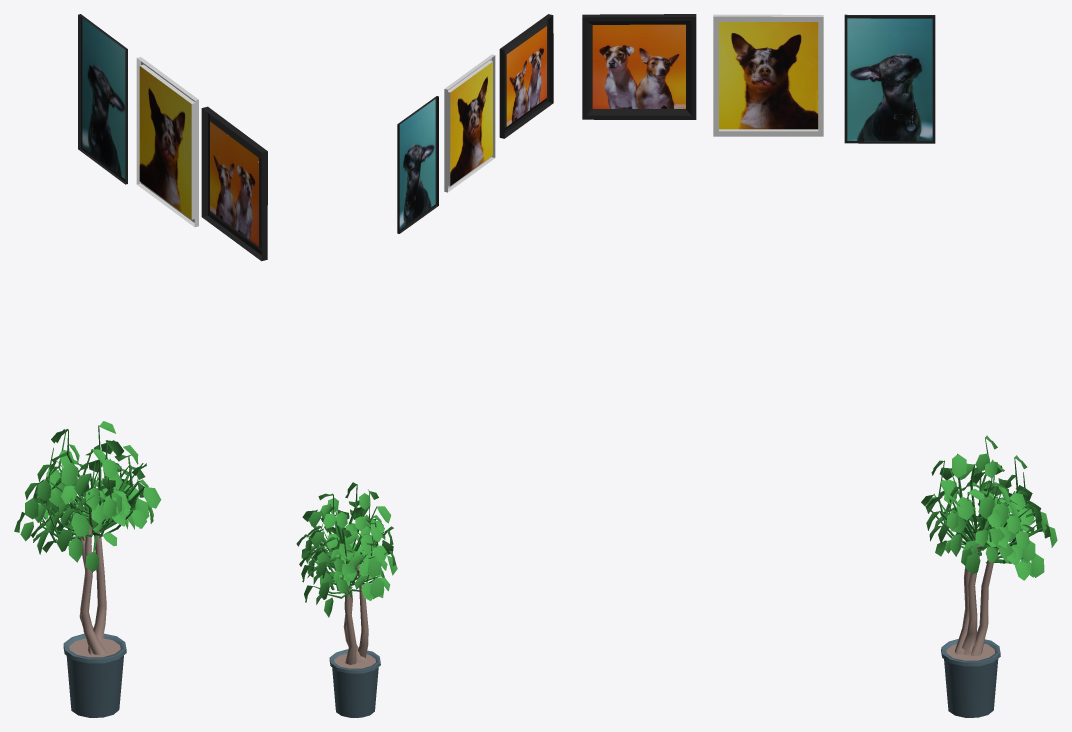
The model's file is leftwall_props.glb.
3 renders of one model, left to right at view 1: azimuth 30°, elevation 25°; view 2: azimuth 150°, elevation 25°; view 3: azimuth 270°, elevation 25°, orthographic. The views are drawn at different scales.
Parts seen in each view (by area): view 1: flower_027, picture_020, picture_005, picture_008; view 2: flower_027, picture_020, picture_005, picture_008; view 3: flower_027, picture_020, picture_005, picture_008.
Part boxes in pixels (<box>): flower_027: <box>14,421,161,717</box>; picture_020: <box>136,57,198,227</box>; picture_005: <box>201,106,267,261</box>; picture_008: <box>78,14,127,184</box>; flower_027: <box>296,482,397,717</box>; picture_020: <box>444,54,495,192</box>; picture_005: <box>499,14,553,138</box>; picture_008: <box>397,96,438,233</box>; flower_027: <box>921,435,1057,717</box>; picture_020: <box>713,14,823,136</box>; picture_005: <box>582,14,696,119</box>; picture_008: <box>844,14,935,143</box>.
Bounding box in the file's own units: 0.9816 × 5.46 × 3.48.
4 materials, 4 textured.
